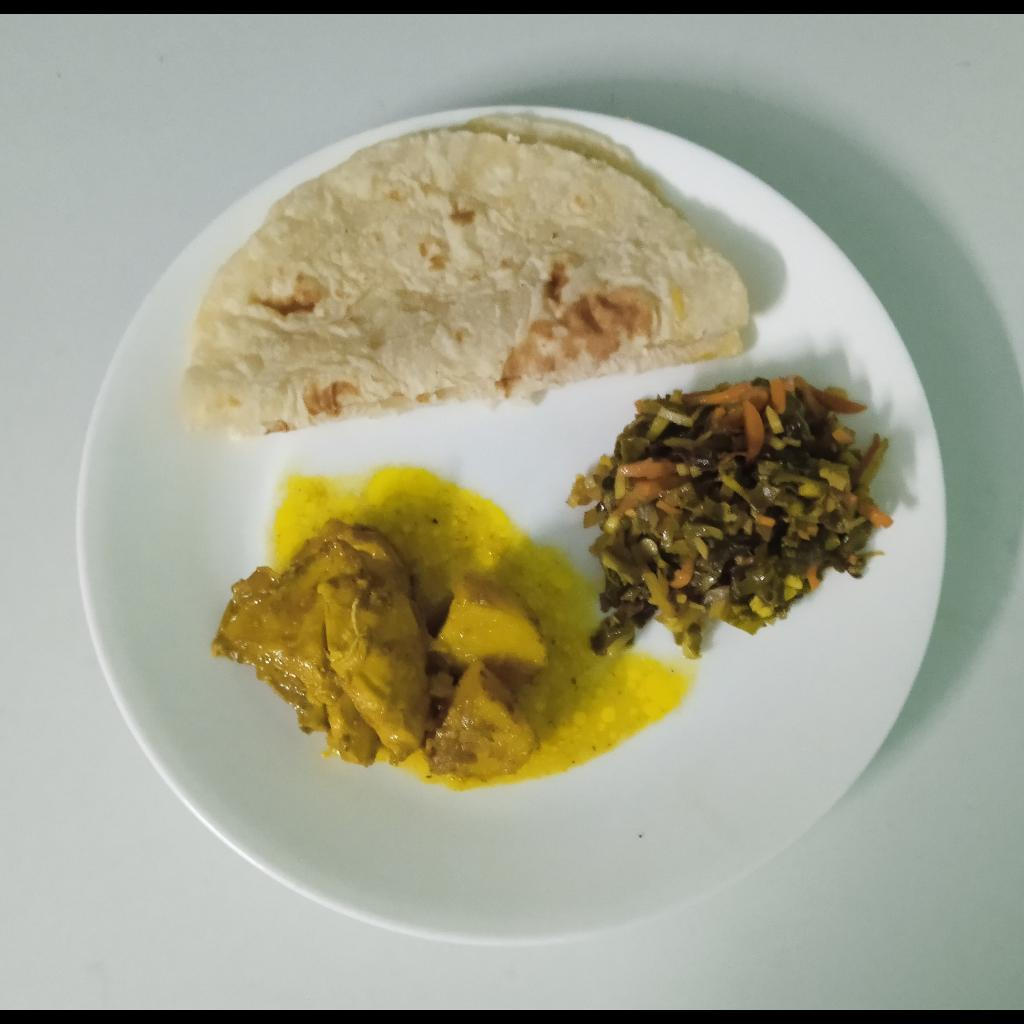chicken: (218, 521, 432, 767)
potato: (440, 584, 546, 776)
ruti: (181, 115, 748, 441)
shak: (592, 378, 879, 639)
